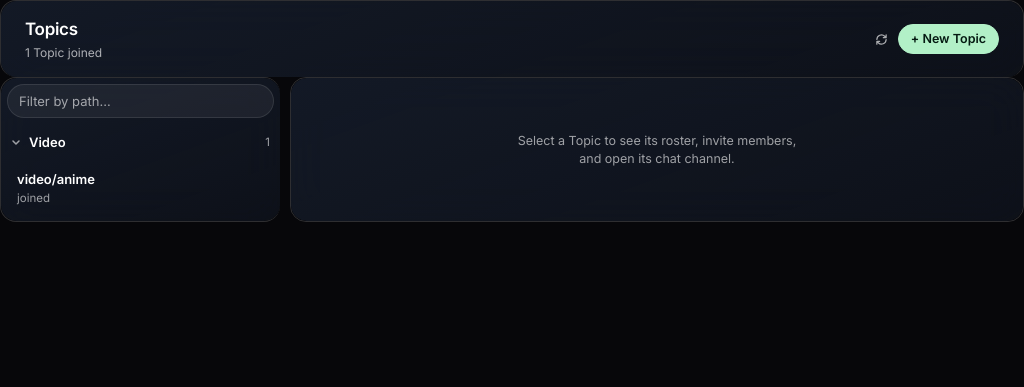
Hoardbook Topics draft r1 — roster rows (PersonRow) › labels the self entry "Name (you)" and shows NO fingerprint row for it
Click the button with class "topic-row" at coordinates (56, 179), box [7,161,274,215]
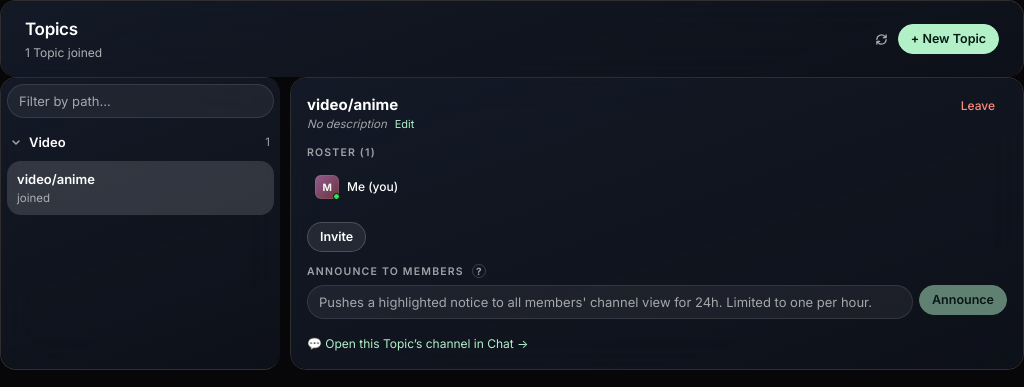
Check: the text "Me (you)" is shown, box [347,178,398,196]
